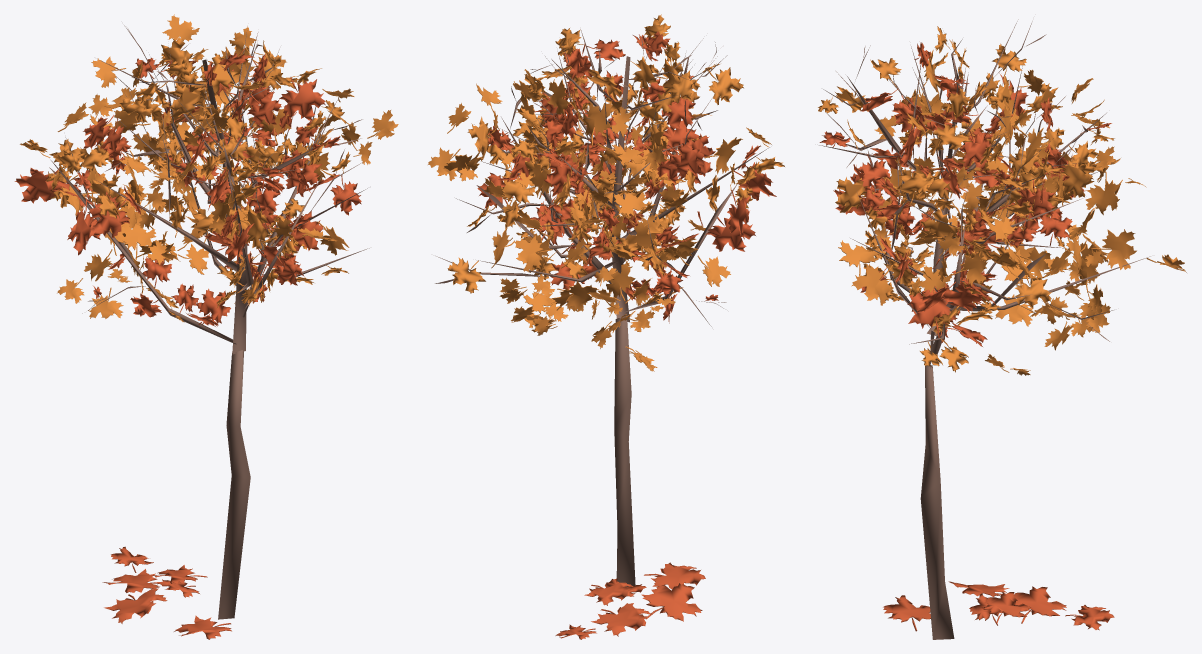
File: clen1.fbx
3 renders of one model, left to right at view 1: azimuth 30°, elevation 25°; view 2: azimuth 150°, elevation 25°; view 3: azimuth 270°, elevation 25°, orthographic. The views are drawn at different scales.
Parts seen in each view (by area): view 1: red, orange.001, orange, tree; view 2: red, orange.001, orange, tree; view 3: red, orange.001, orange, tree.
Boxes of the visible parts, x1,y1,x2,y2 form: red: (14,48,361,639); orange.001: (57,14,398,318); orange: (20,38,351,322); tree: (49,25,369,619); red: (477,31,776,639); orange.001: (428,69,742,371); orange: (447,14,784,304); tree: (435,29,769,586); red: (819,42,1114,631); orange.001: (838,69,1146,375); orange: (818,26,1186,372); tree: (819,19,1150,639).
Size of the model in its own units: 59.01 by 98.6 by 56.17.
